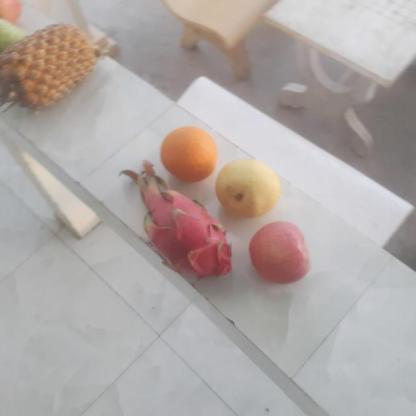apple: (248, 221, 316, 285)
orange: (156, 126, 219, 180)
pear: (214, 158, 284, 220)
pitaya: (145, 188, 240, 278)
